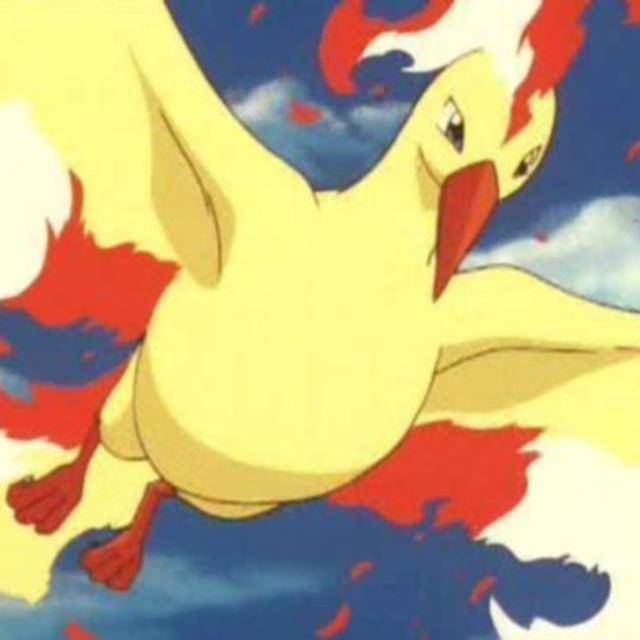Moltres: (0, 0, 640, 620)
